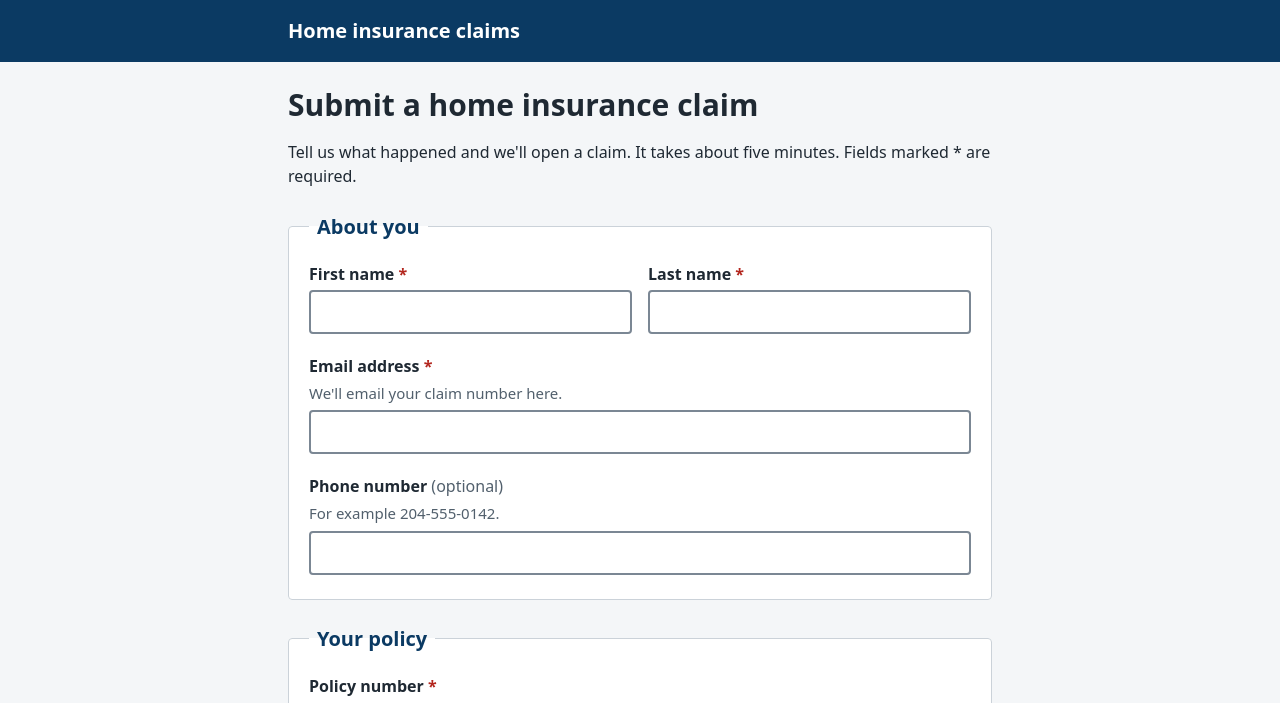
Test: claim form › validation › validates a field when the customer leaves it
Type "not-an-email" into the field labelled "Email address *" at (640, 432), box [309,410,971,454]
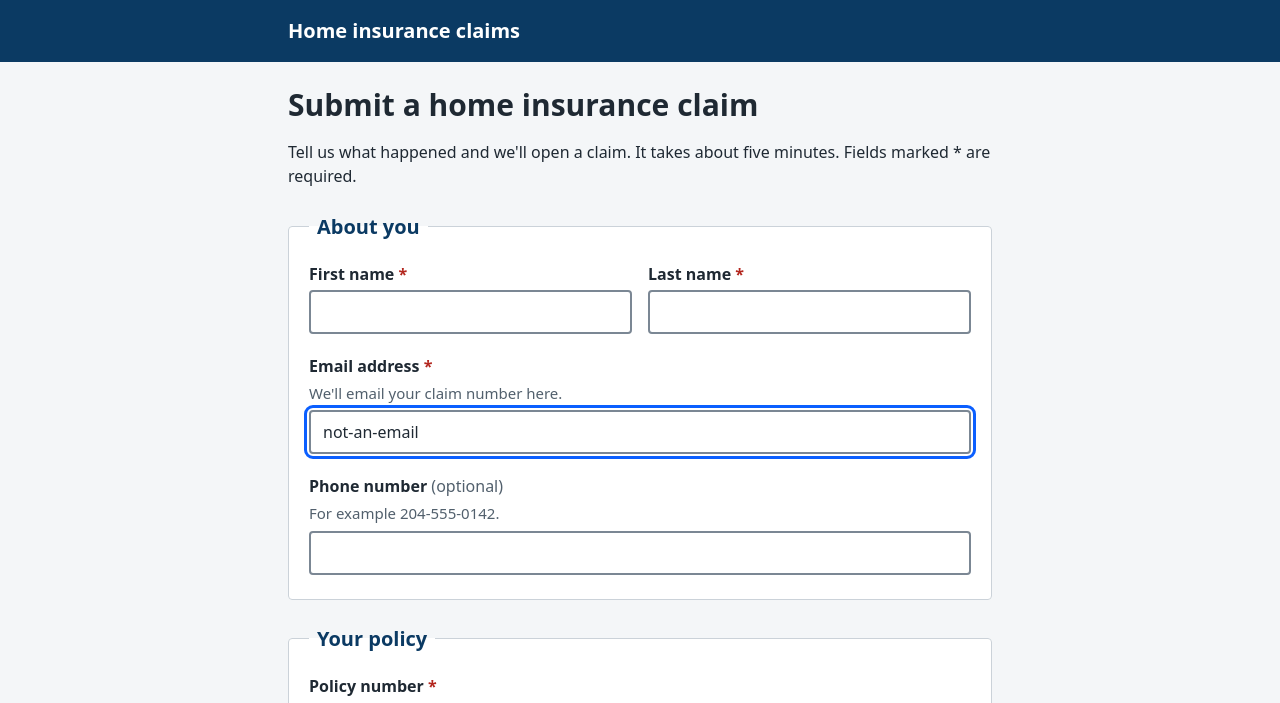
Expected: the text "enter a valid email address" is not shown
Press Tab
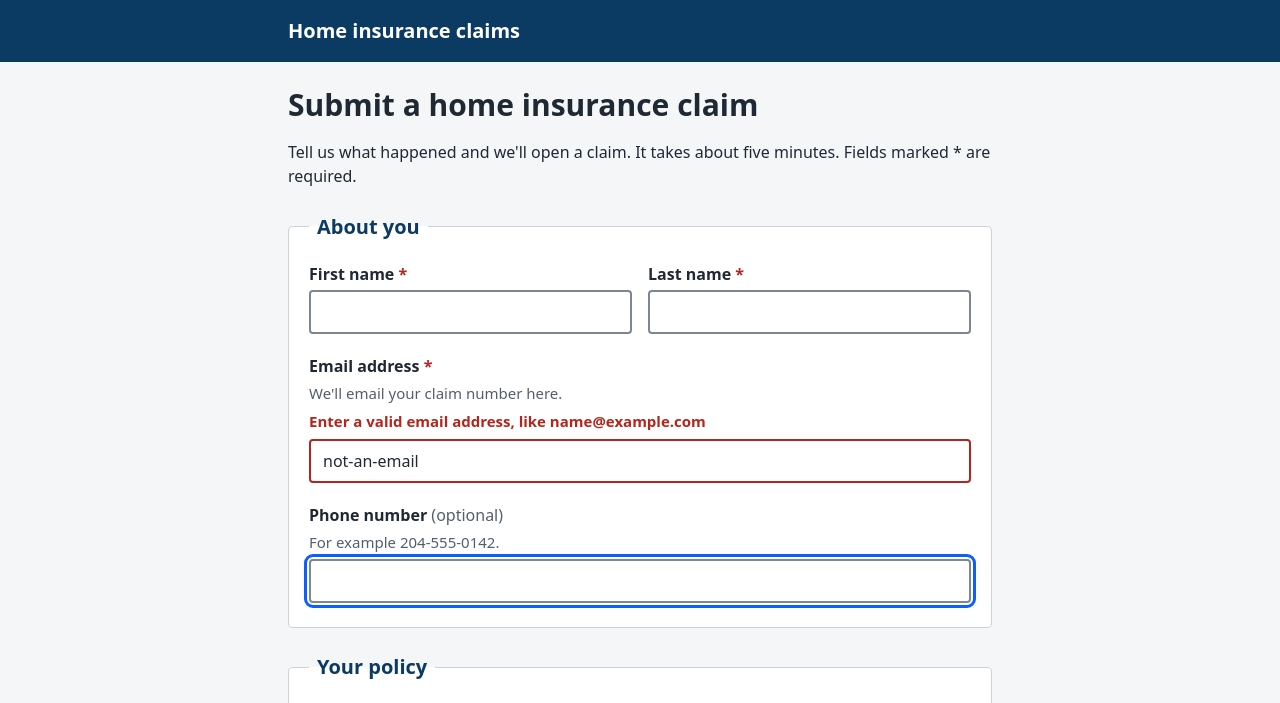
Result: the text "Enter a valid email address, like name@example.com" is shown at [308,410,706,431]
